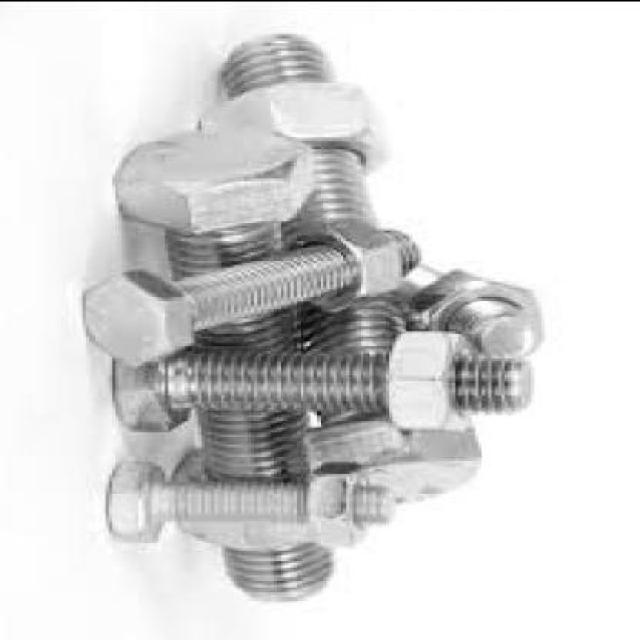METAL: (205, 31, 484, 502), (119, 123, 343, 595), (86, 213, 429, 364), (119, 339, 535, 428), (110, 455, 392, 539), (201, 86, 376, 165), (409, 266, 542, 365), (300, 202, 409, 308), (396, 328, 478, 426), (317, 458, 369, 539)
